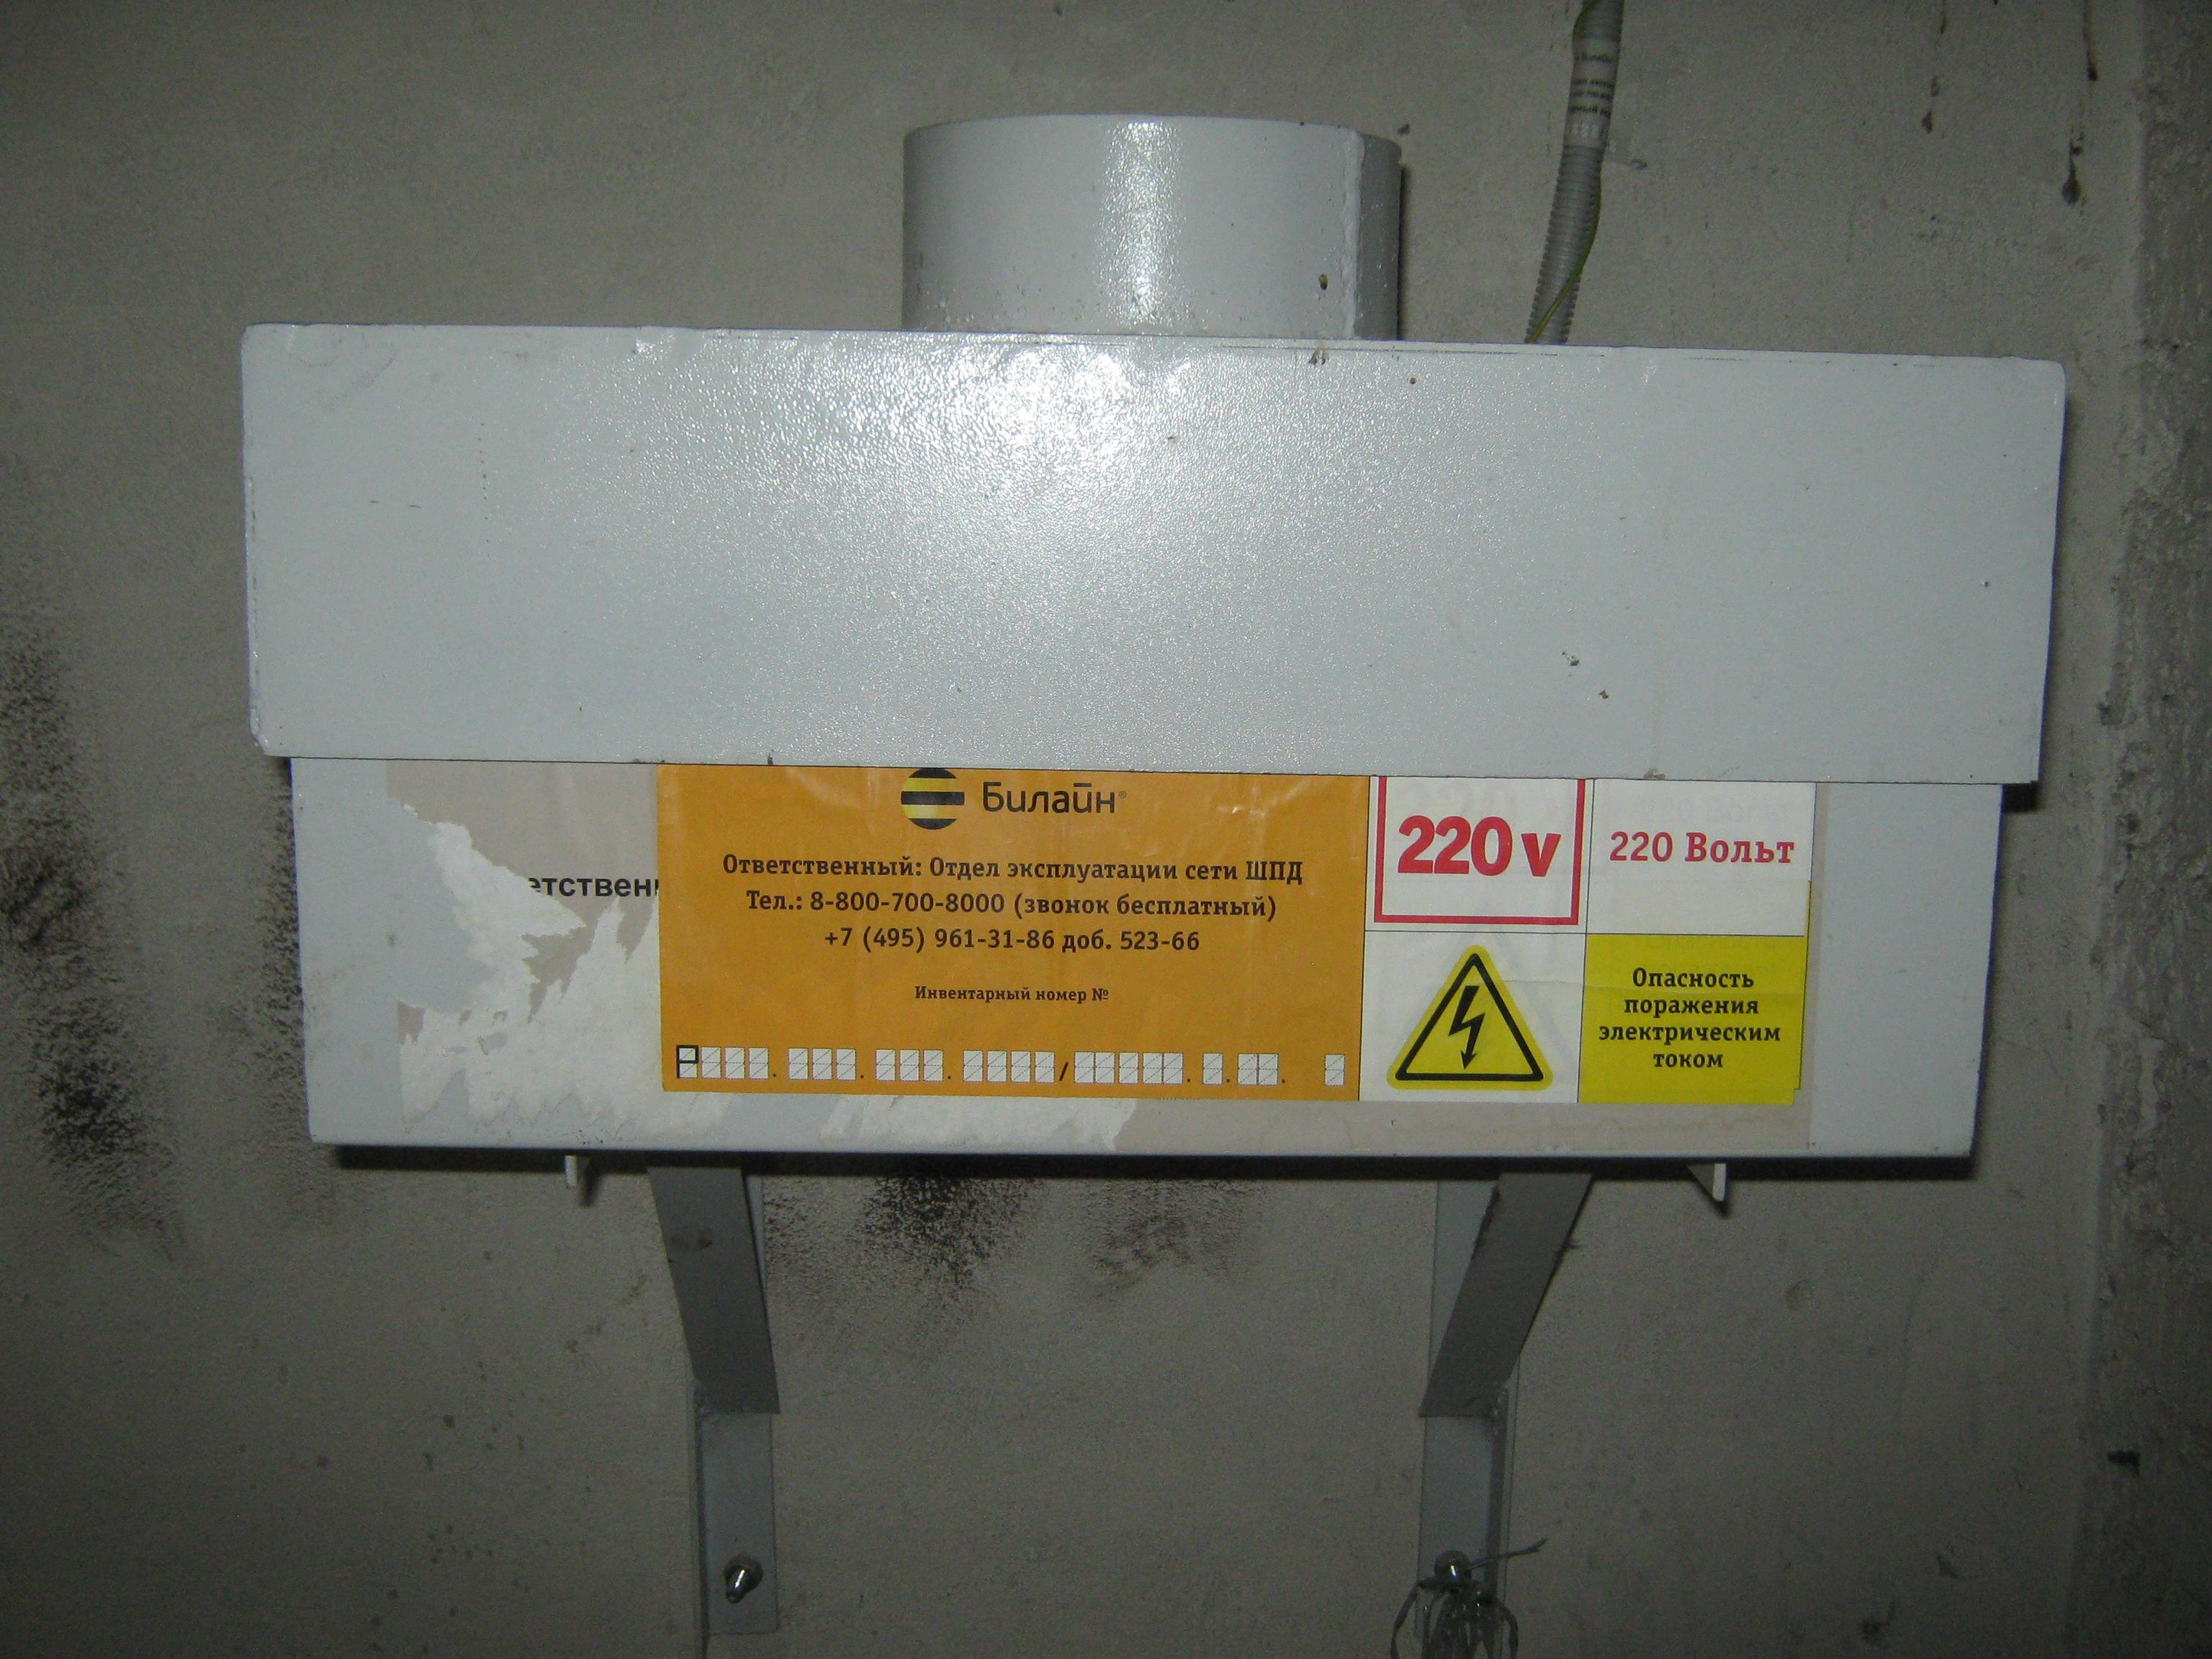shta-ps: (197, 73, 2109, 1223)
